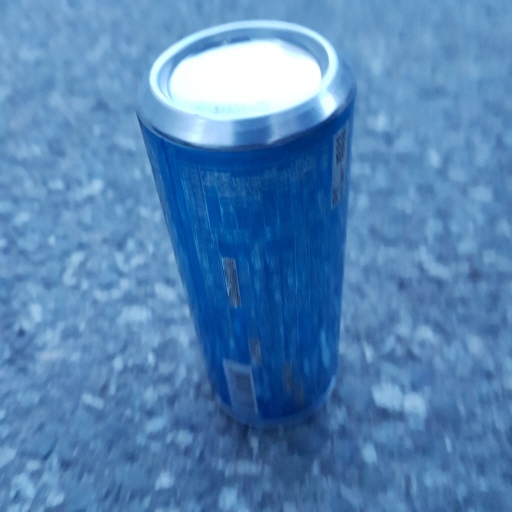Metal_0: (134, 19, 361, 429)
